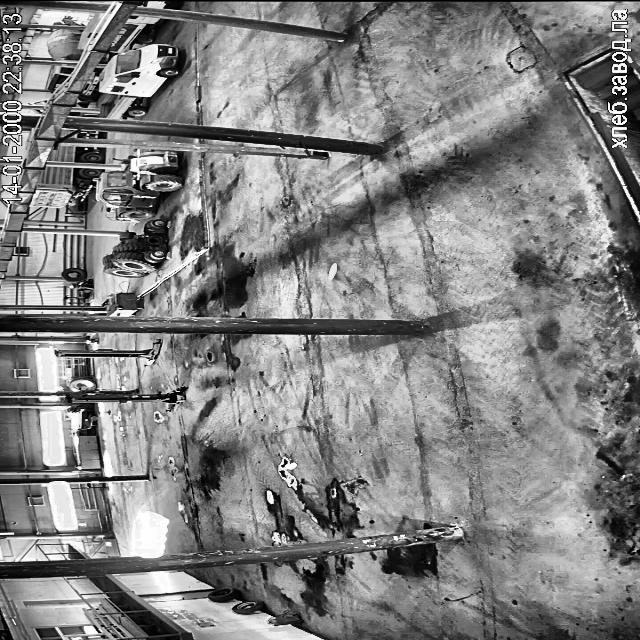class6: (96, 151, 182, 221), (102, 220, 166, 278)
class7: (99, 44, 180, 118), (28, 167, 100, 208), (108, 16, 160, 52), (46, 30, 83, 60), (46, 146, 101, 163), (77, 68, 99, 102), (80, 13, 101, 47), (46, 66, 73, 92), (140, 0, 179, 8), (71, 131, 98, 142), (61, 17, 76, 24), (60, 129, 74, 136), (32, 100, 44, 104)
tractor: (268, 614, 300, 624)
truck: (67, 387, 186, 410), (54, 340, 161, 365)
